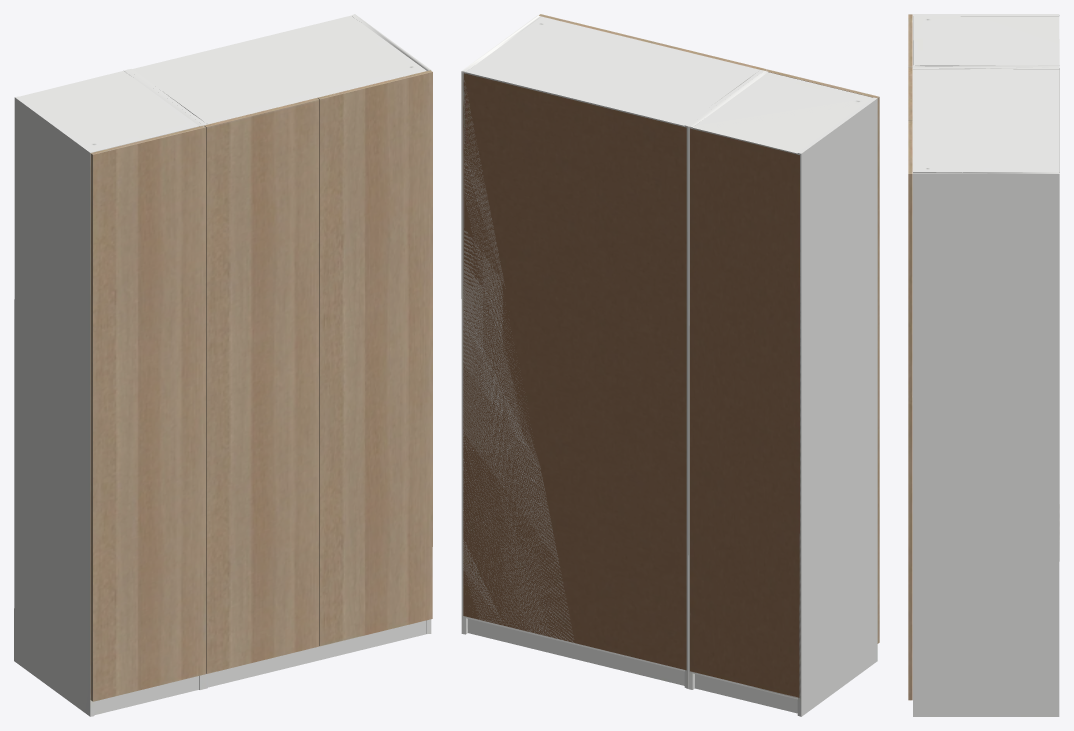
The model's file is pax_forsand_kombinacja_szafy_59478113.glb.
3 views of the same model, side by side, from view 1: azimuth 30°, elevation 25°; view 2: azimuth 150°, elevation 25°; view 3: azimuth 270°, elevation 25° (orthographic). The views are drawn at different scales.
Parts seen in each view (by area): view 1: pax_forsand_kombinacja_szafy_59478113; view 2: pax_forsand_kombinacja_szafy_59478113; view 3: pax_forsand_kombinacja_szafy_59478113.
Boxes of the visible parts, x1,y1,x2,y2 form: pax_forsand_kombinacja_szafy_59478113: (14, 14, 432, 716); pax_forsand_kombinacja_szafy_59478113: (461, 14, 879, 716); pax_forsand_kombinacja_szafy_59478113: (908, 14, 1059, 716).
Bounding box in the file's own units: 1.5 × 2.36 × 0.598.
1 material, 1 textured.
